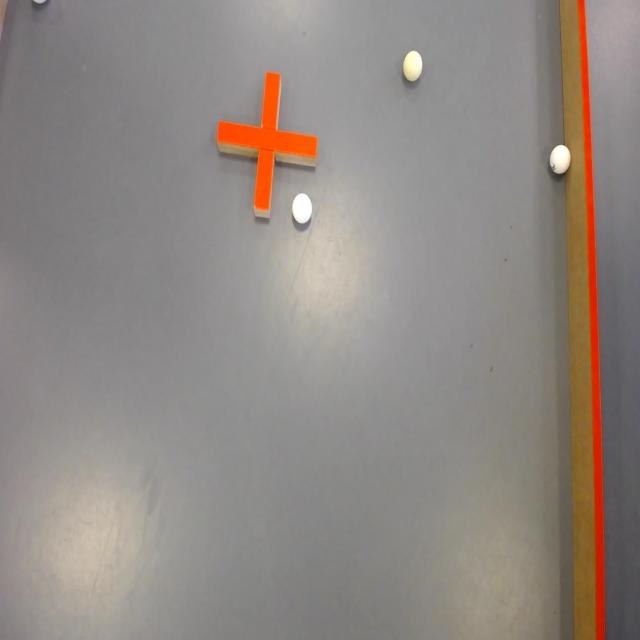obstacle: (558, 2, 608, 640), (212, 67, 320, 226)
white-golf-balls: (401, 48, 428, 88), (290, 191, 316, 230), (547, 140, 571, 179)
